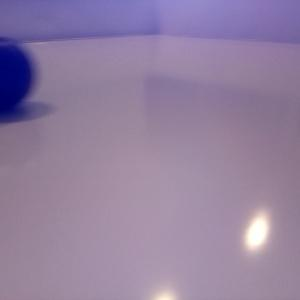dead_ball: (1, 36, 33, 112)
